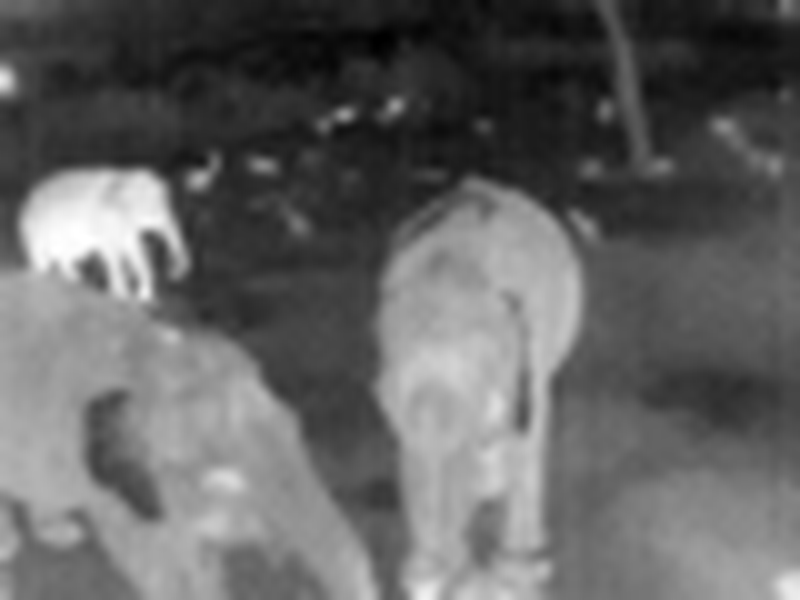elephant: (2, 157, 600, 600)
